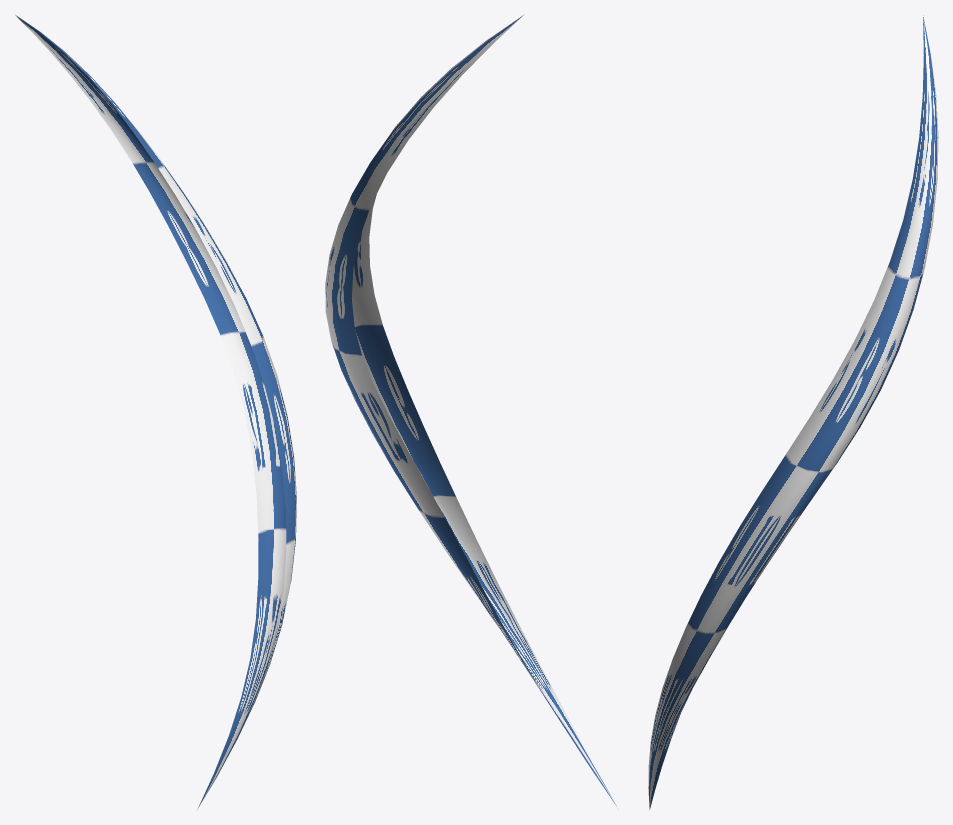
File: Spiral1.fbx
3 renders of one model, left to right at view 1: azimuth 30°, elevation 25°; view 2: azimuth 150°, elevation 25°; view 3: azimuth 270°, elevation 25°, orthographic. The views are drawn at different scales.
Parts seen in each view (by area): view 1: SM_e_Useful_Spiral001; view 2: SM_e_Useful_Spiral001; view 3: SM_e_Useful_Spiral001.
Part boxes in pixels (x1,y1,x2,y2): SM_e_Useful_Spiral001: (15, 15, 296, 809); SM_e_Useful_Spiral001: (325, 14, 618, 809); SM_e_Useful_Spiral001: (648, 15, 938, 809).
Bounding box in the file's own units: 8.7 × 30 × 10.27.
